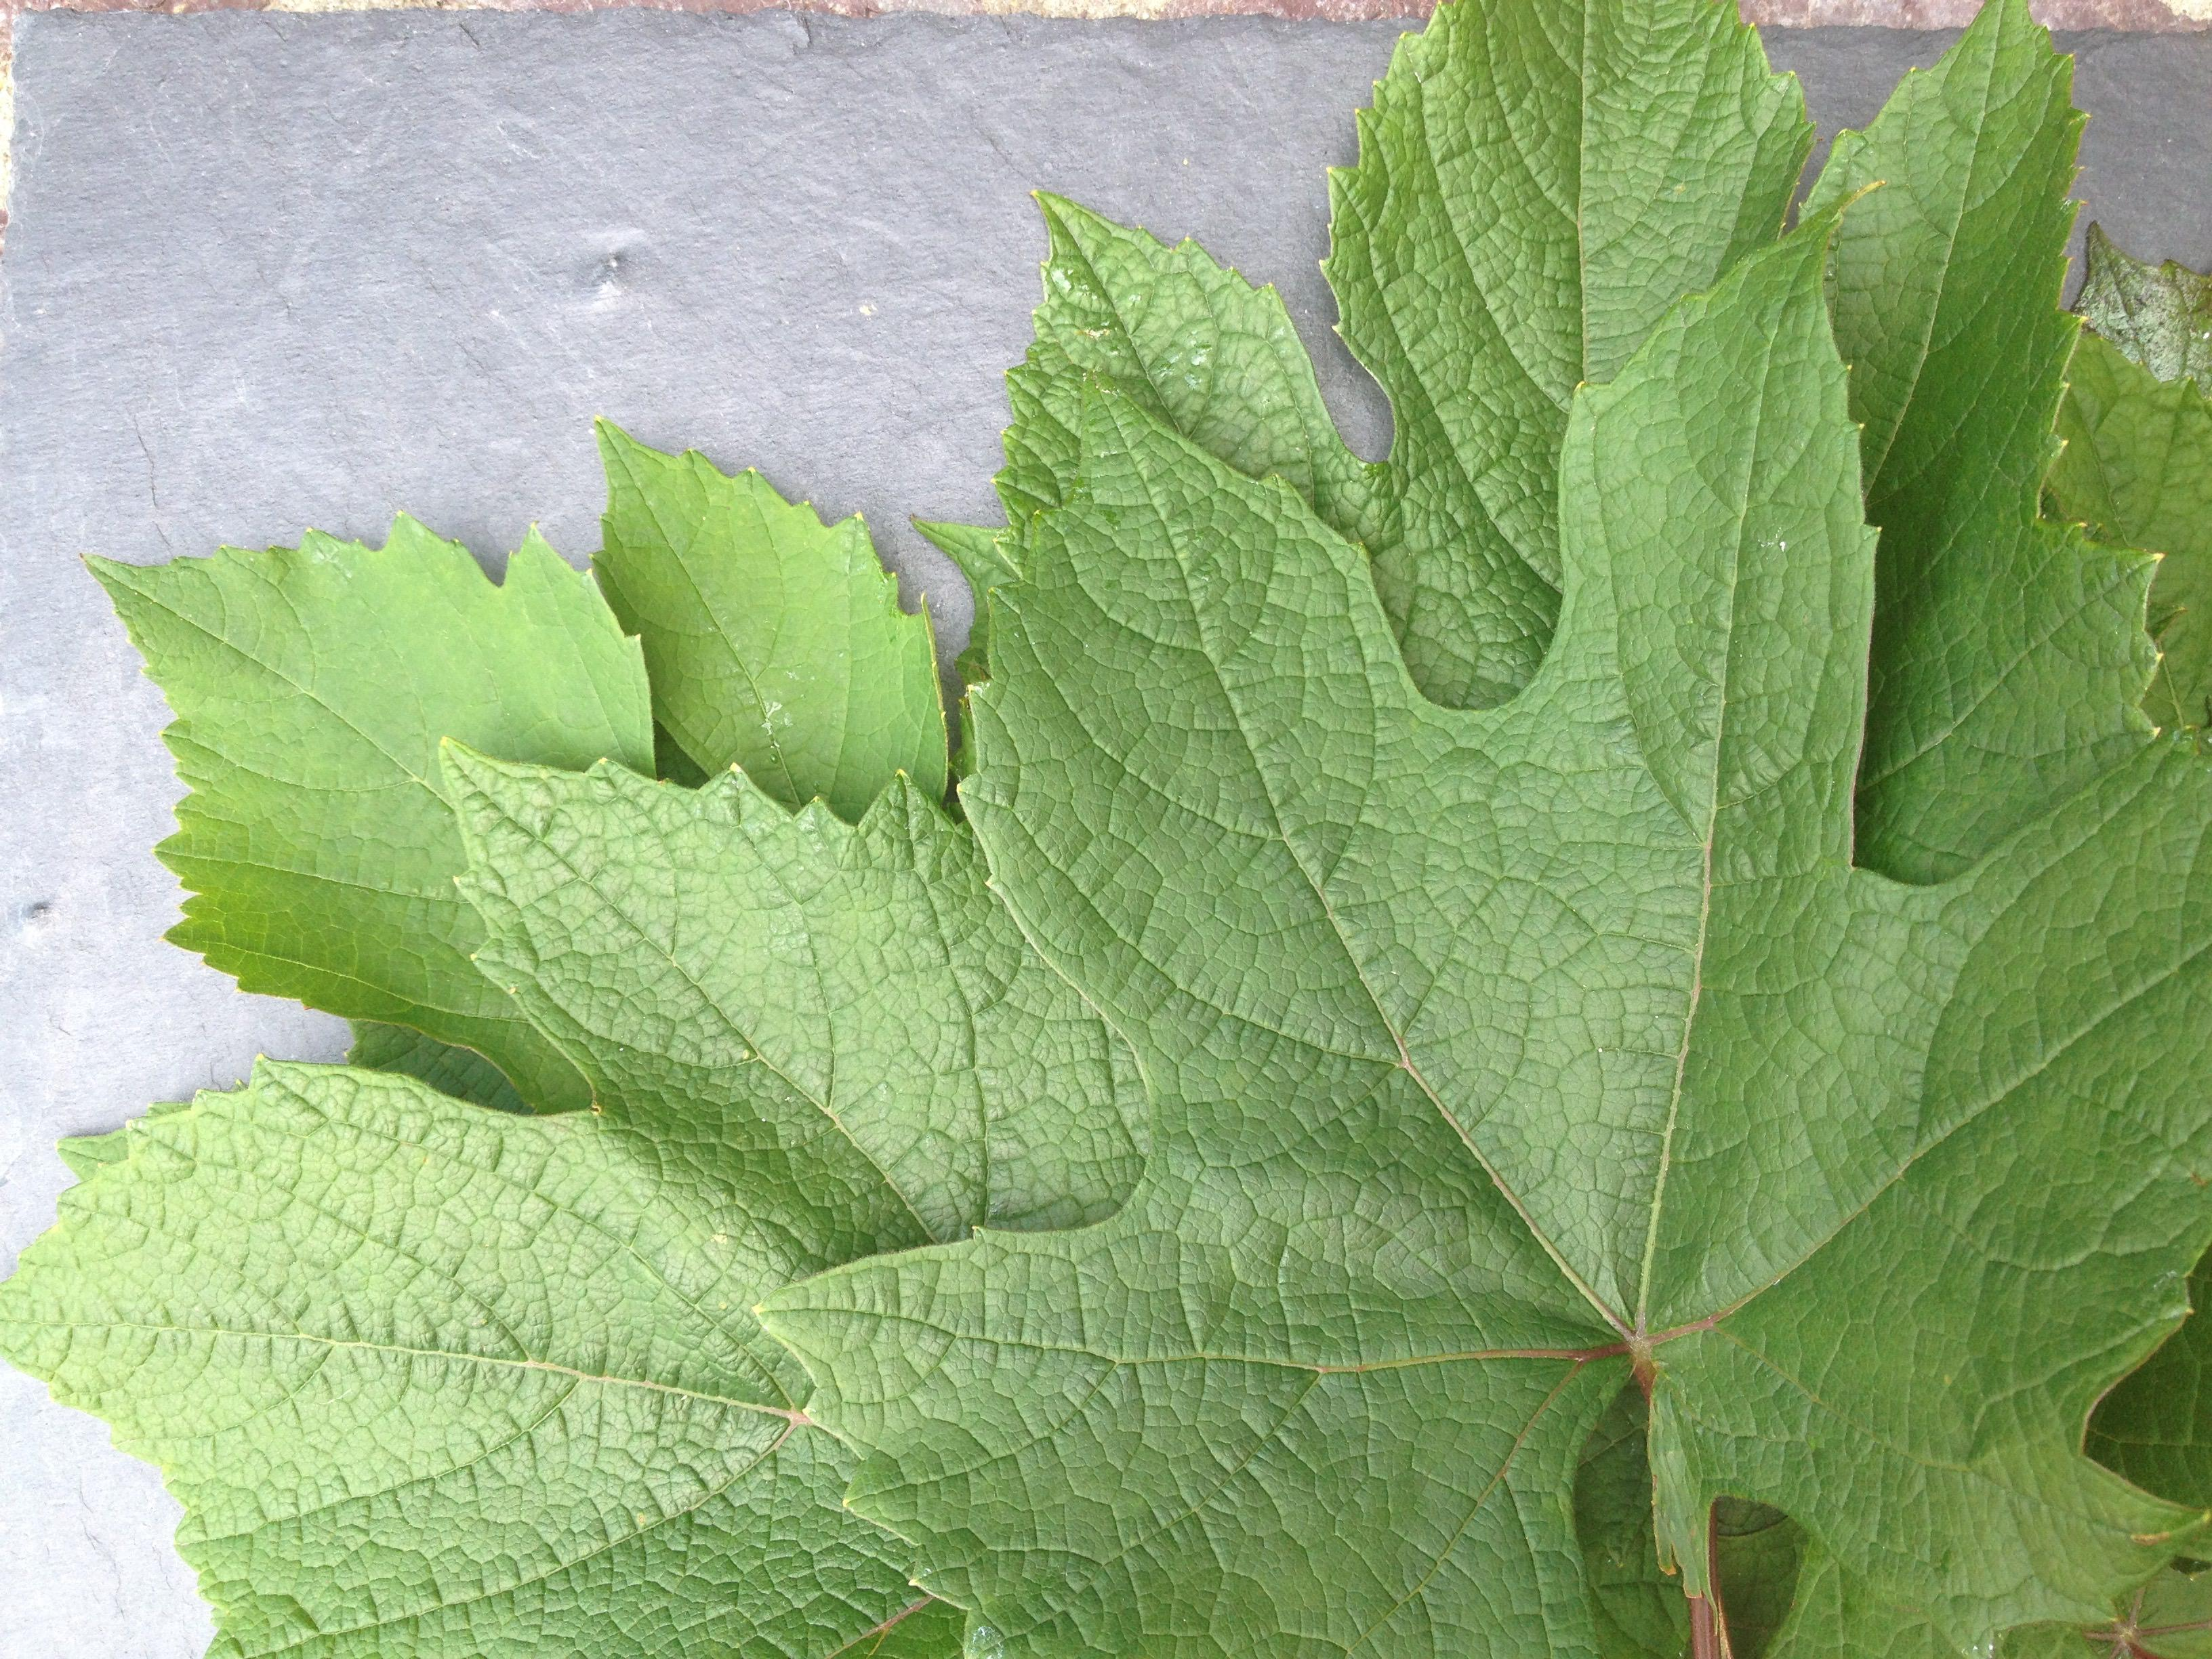grape leaf black rot: (806, 239, 2210, 1659), (7, 739, 953, 1659)
